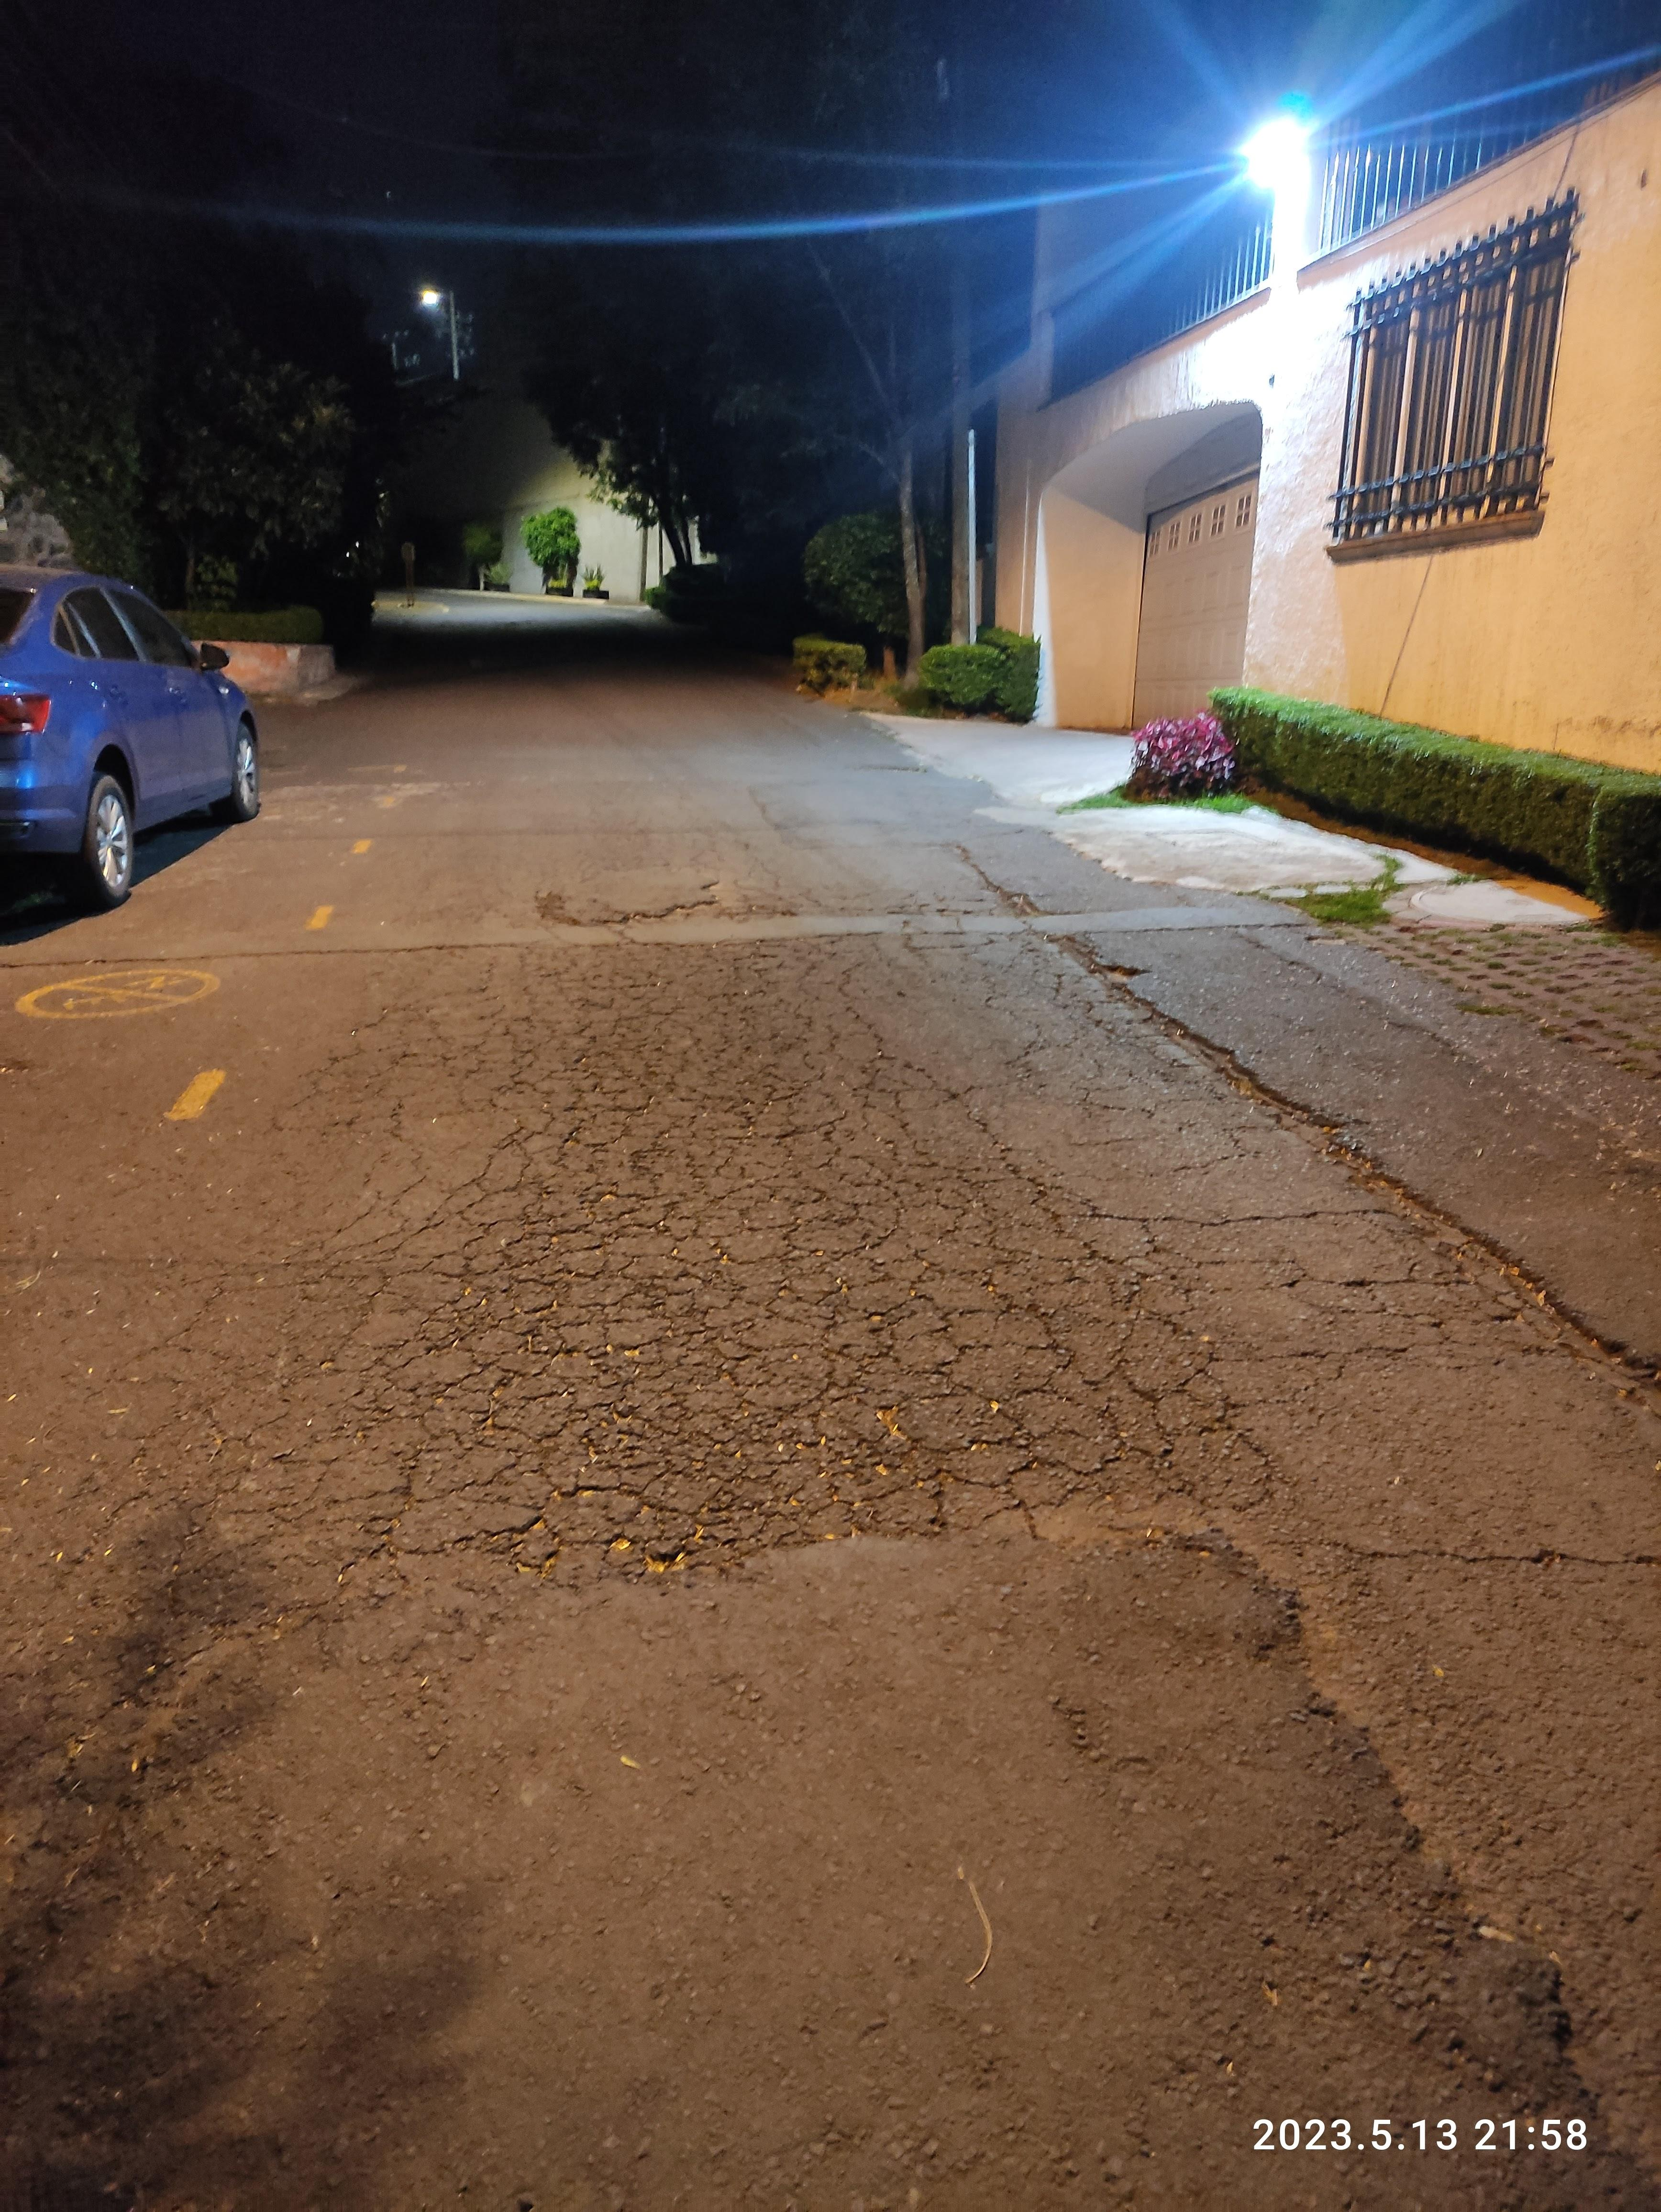alligator-crack: (232, 891, 1263, 1598)
